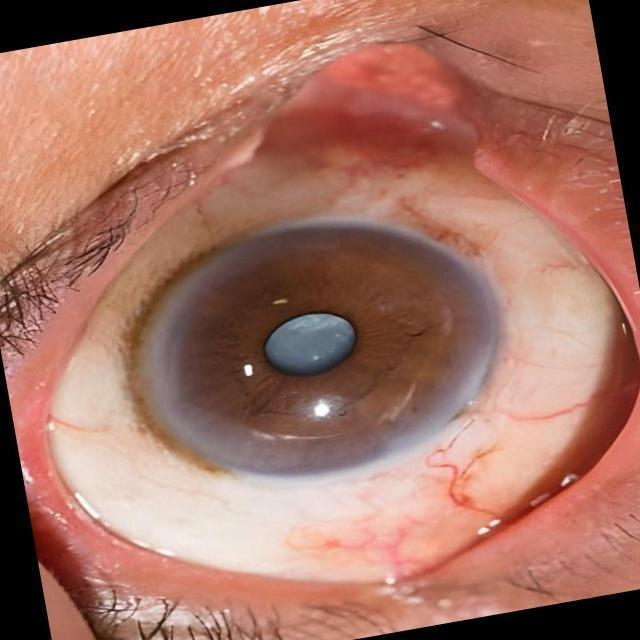Cataract: (93, 180, 531, 518)
